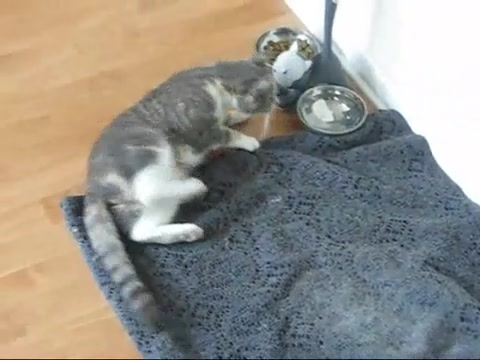cat: (82, 60, 278, 331)
